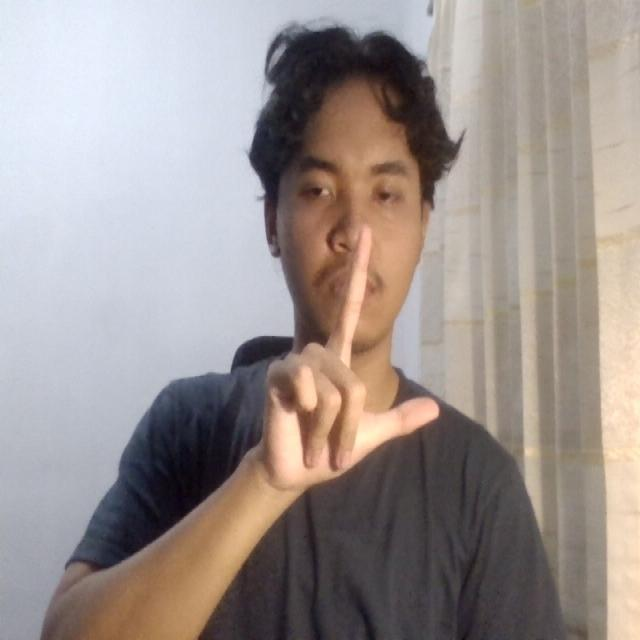I: (227, 217, 456, 514)
